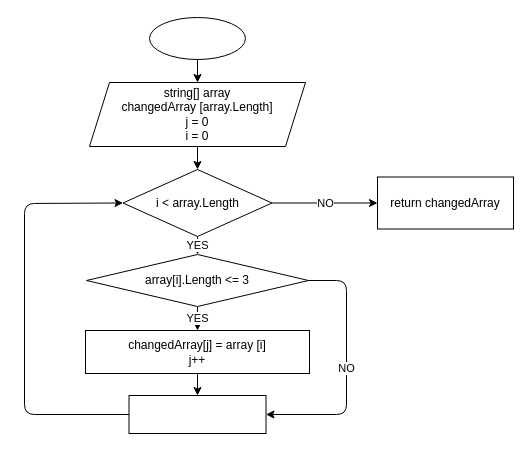
This 531x451 diagram has some shape labels left out. The centre of each missing label's shape, as x and y in pixels:
i++: the point at 197,414
START: the point at 197,38
